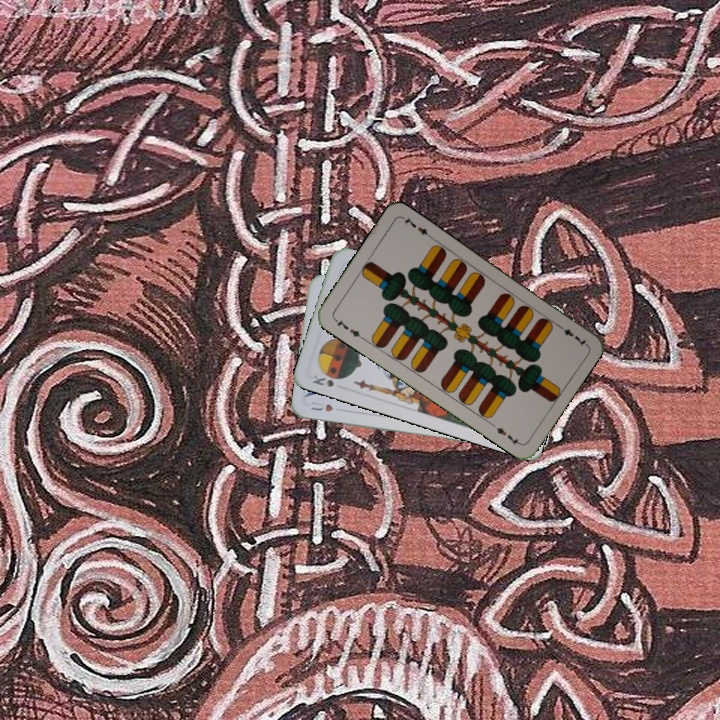E7: (553, 320, 589, 349), (330, 314, 366, 342)
HU: (307, 398, 336, 414)
SK: (308, 371, 336, 390)
